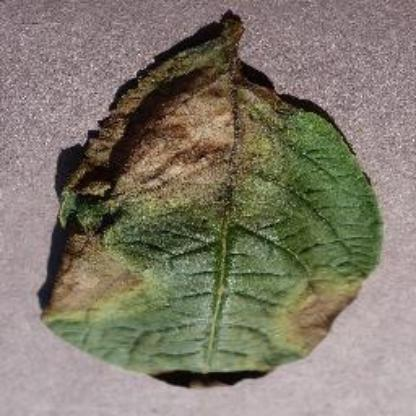Late-Blight: (19, 0, 386, 392)
